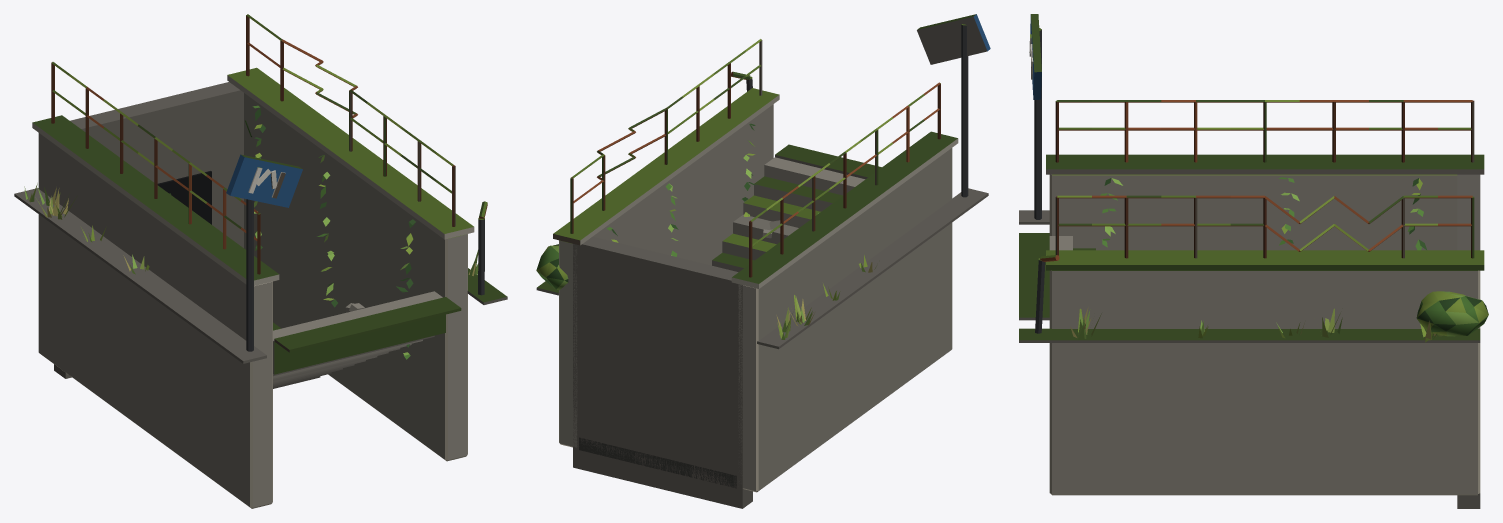
Rendered from subway_entrance.glb.
The picture shows the model from 3 angles, left to right: view 1: azimuth 30°, elevation 25°; view 2: azimuth 150°, elevation 25°; view 3: azimuth 270°, elevation 25°; orthographic projection. The views are drawn at different scales.
Parts seen in each view (by area): view 1: entrance; view 2: entrance; view 3: entrance.
Boxes of the visible parts, x1,y1,x2,y2 form: entrance: [14, 14, 507, 508]; entrance: [536, 14, 990, 508]; entrance: [1019, 14, 1488, 508].
Bounding box in the file's own units: 4.3 × 5.56 × 6.11.
